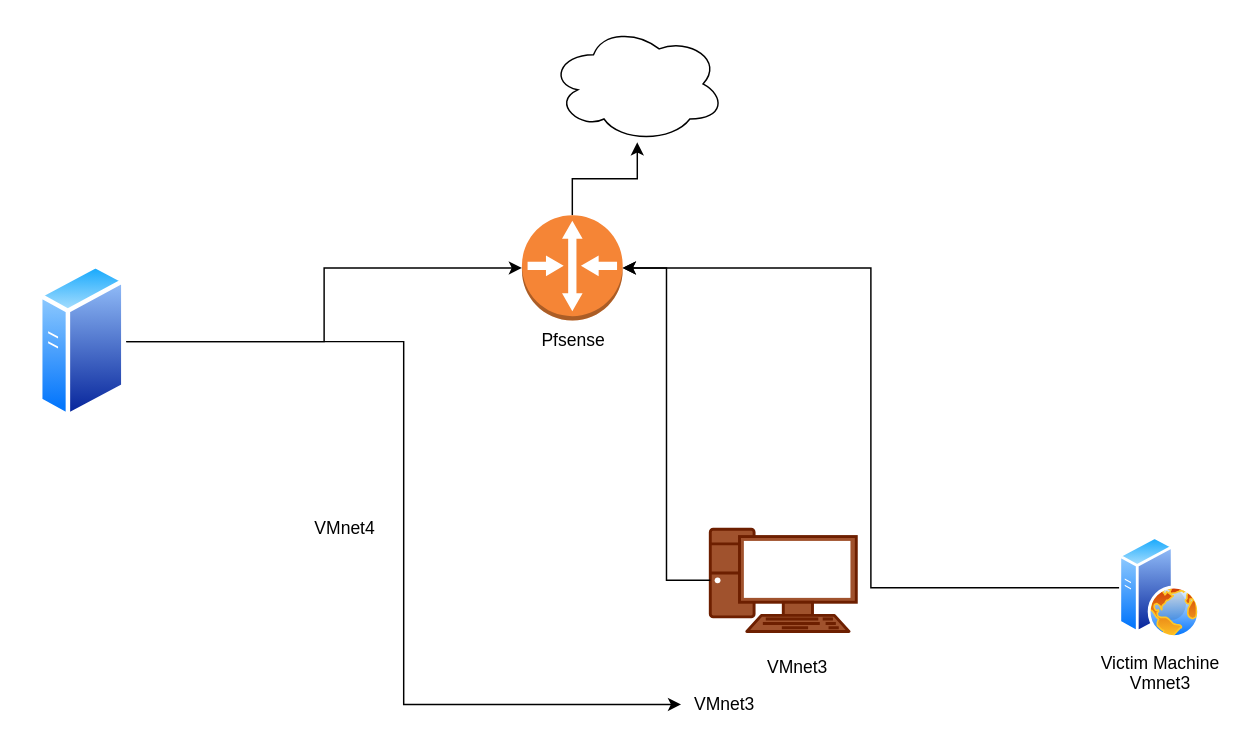
The diagram is 1244 pixels wide and 752 high, and some of its shapes have lost their labels. Each missing label, with the centre of its shape:
"Kali" belongs at point 782,579.
"Security Onion VMnet4" belongs at point 82,341.
